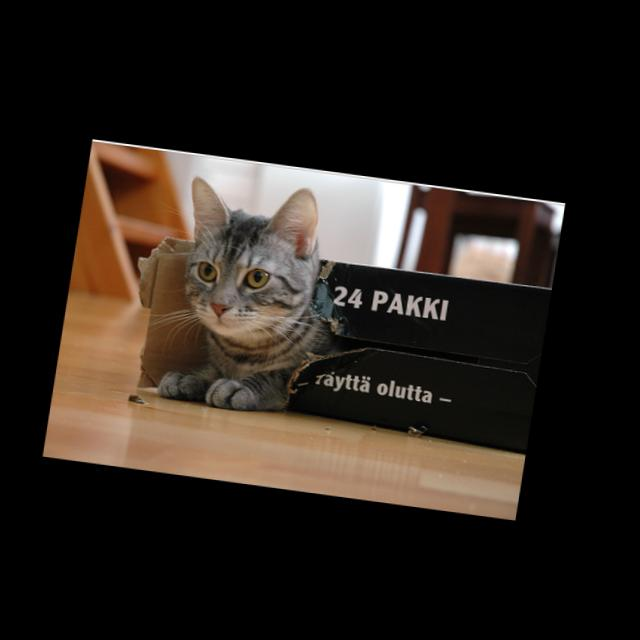animals: (178, 171, 320, 323)
